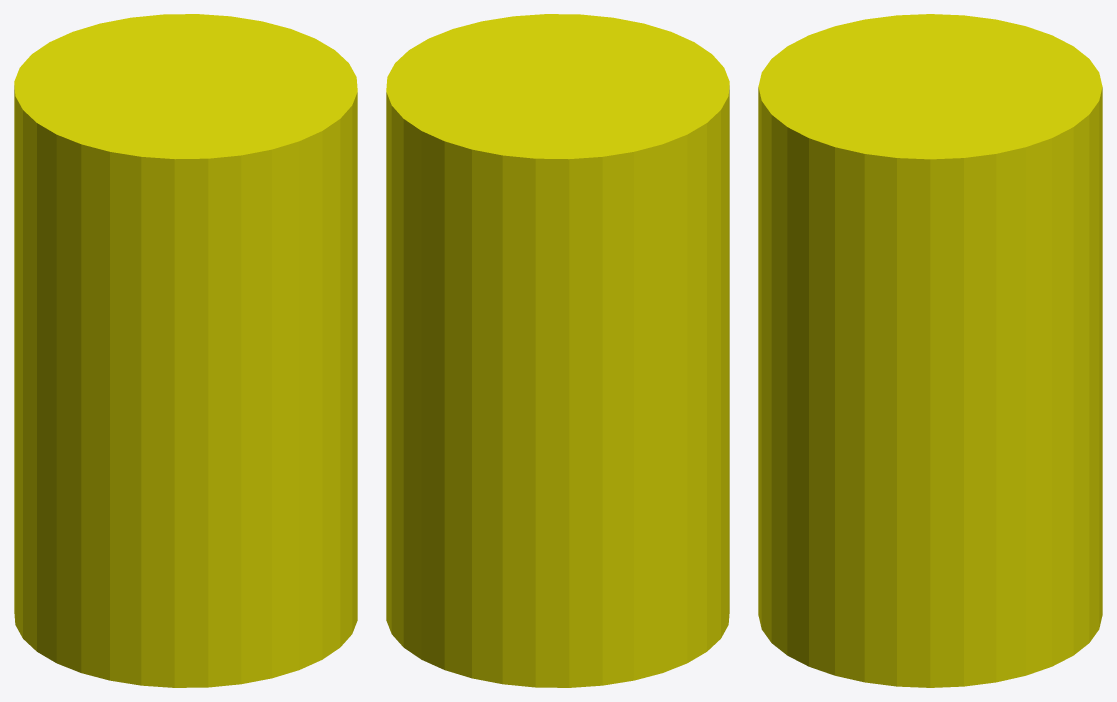
3 renders of one model, left to right at view 1: azimuth 30°, elevation 25°; view 2: azimuth 150°, elevation 25°; view 3: azimuth 270°, elevation 25°, orthographic.
Parts seen in each view (by area): view 1: Cylinder; view 2: Cylinder; view 3: Cylinder.
Part boxes in pixels (x1,y1,x2,y2): Cylinder: [14, 14, 357, 687]; Cylinder: [386, 14, 729, 687]; Cylinder: [758, 14, 1102, 687].
Bounding box in the file's own units: 1.18 × 2 × 1.18.
